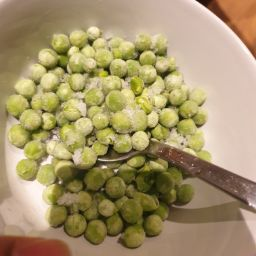Peas: (44, 27, 159, 176), (107, 89, 150, 155), (121, 194, 166, 246), (171, 74, 214, 128), (177, 133, 223, 175), (71, 196, 111, 243), (139, 34, 174, 80), (43, 188, 74, 229), (13, 155, 42, 182), (2, 88, 28, 117), (17, 116, 46, 134)
